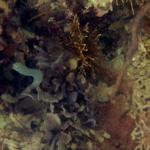alive: (4, 6, 146, 147)
